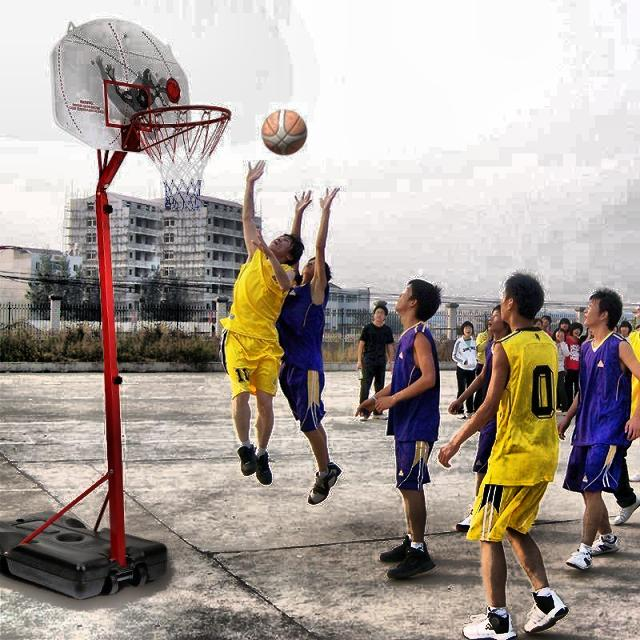board: (262, 108, 307, 156)
rim: (132, 104, 229, 209)
